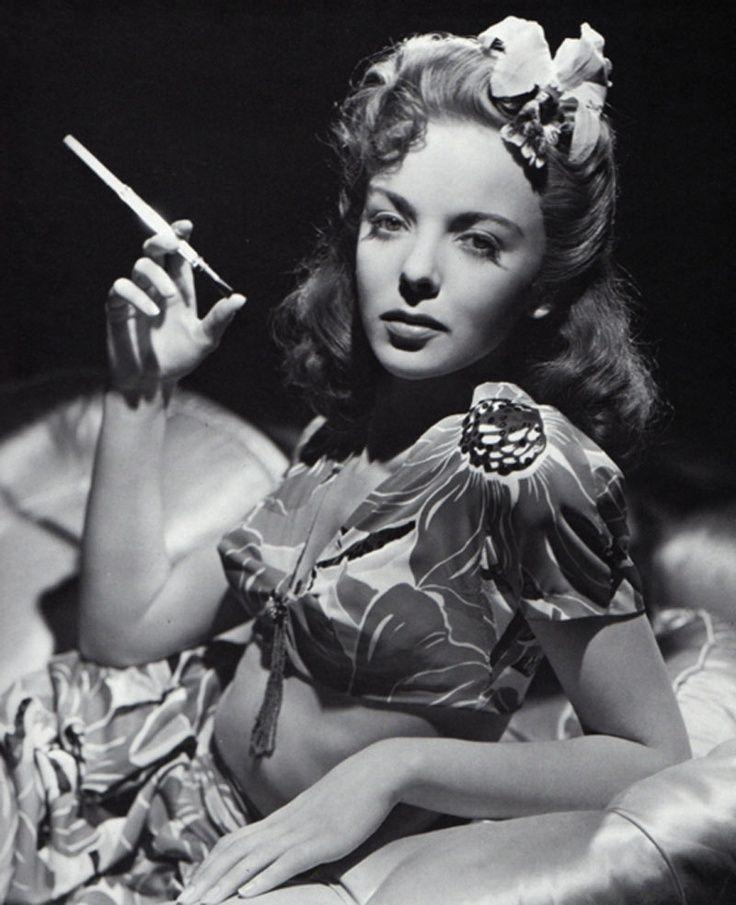cigarette: (61, 129, 238, 299)
